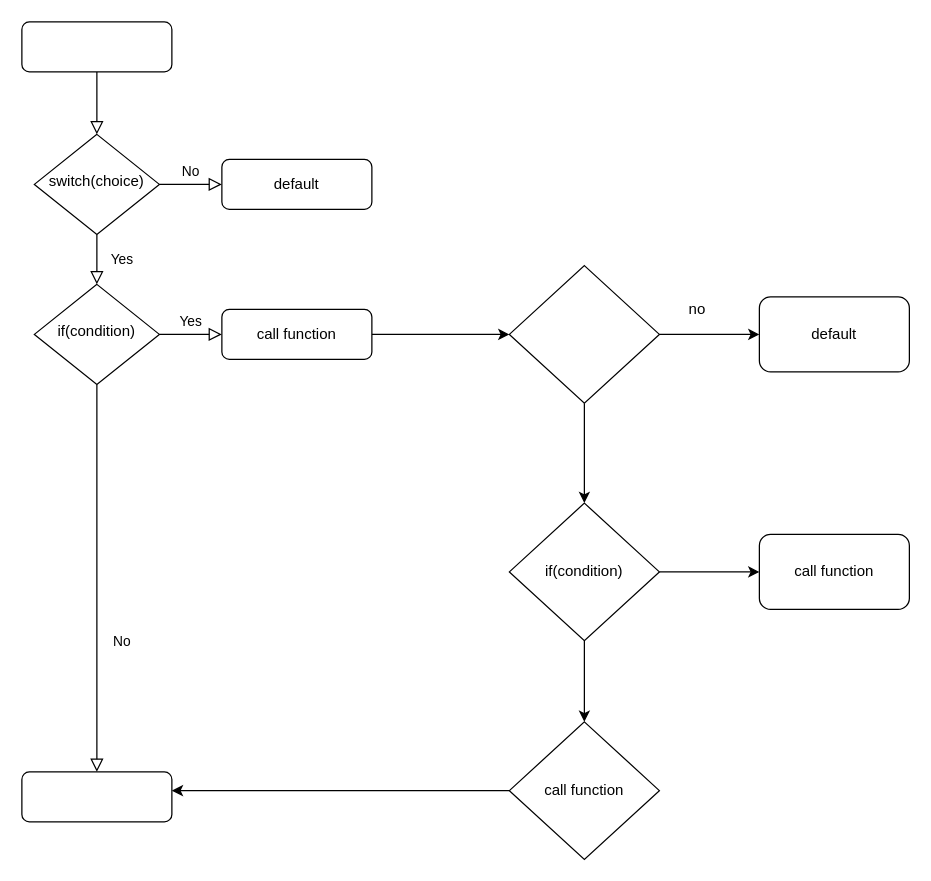
Image size: 931x881. Some labels were removed from this diagram. The shapes that lost their labels are listed below. From the top down, each one's centre as x and y in pixels, then its label:
(96,46): START
(583,333): switch (choice)
(96,796): return to first switch
